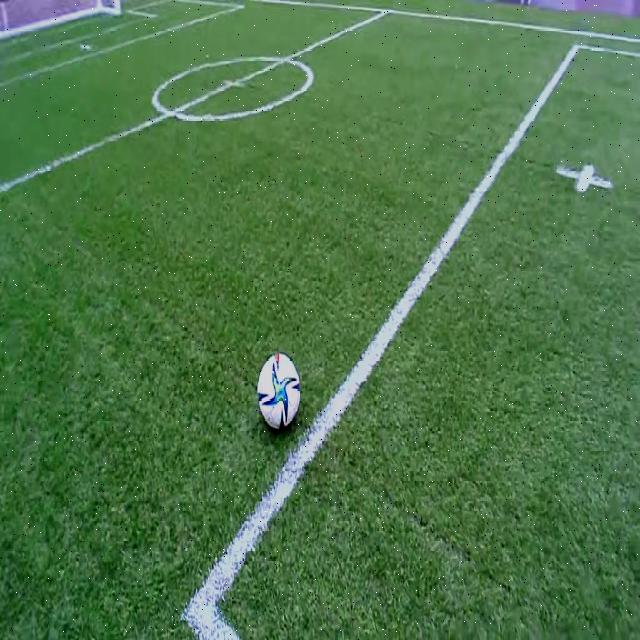ball: (256, 351, 300, 431)
